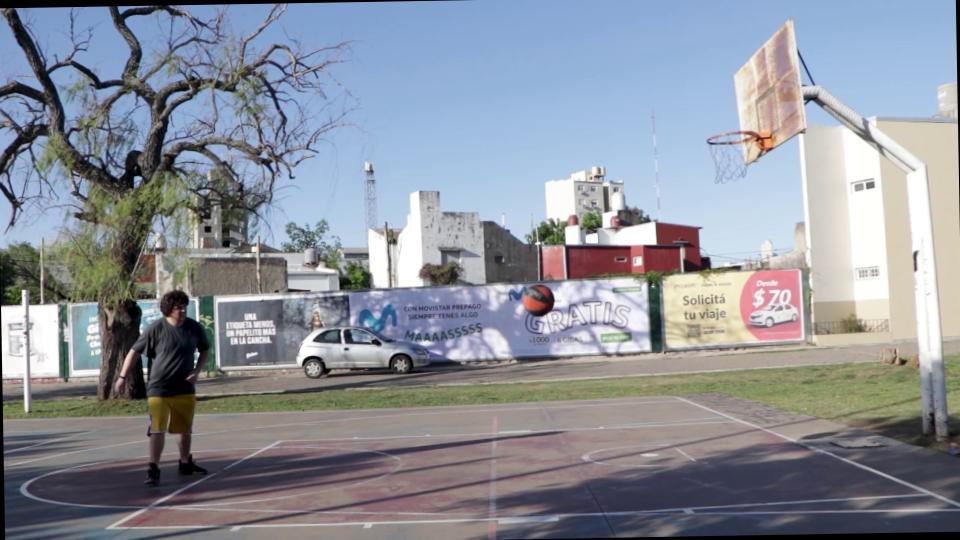hoop: (703, 130, 777, 159)
